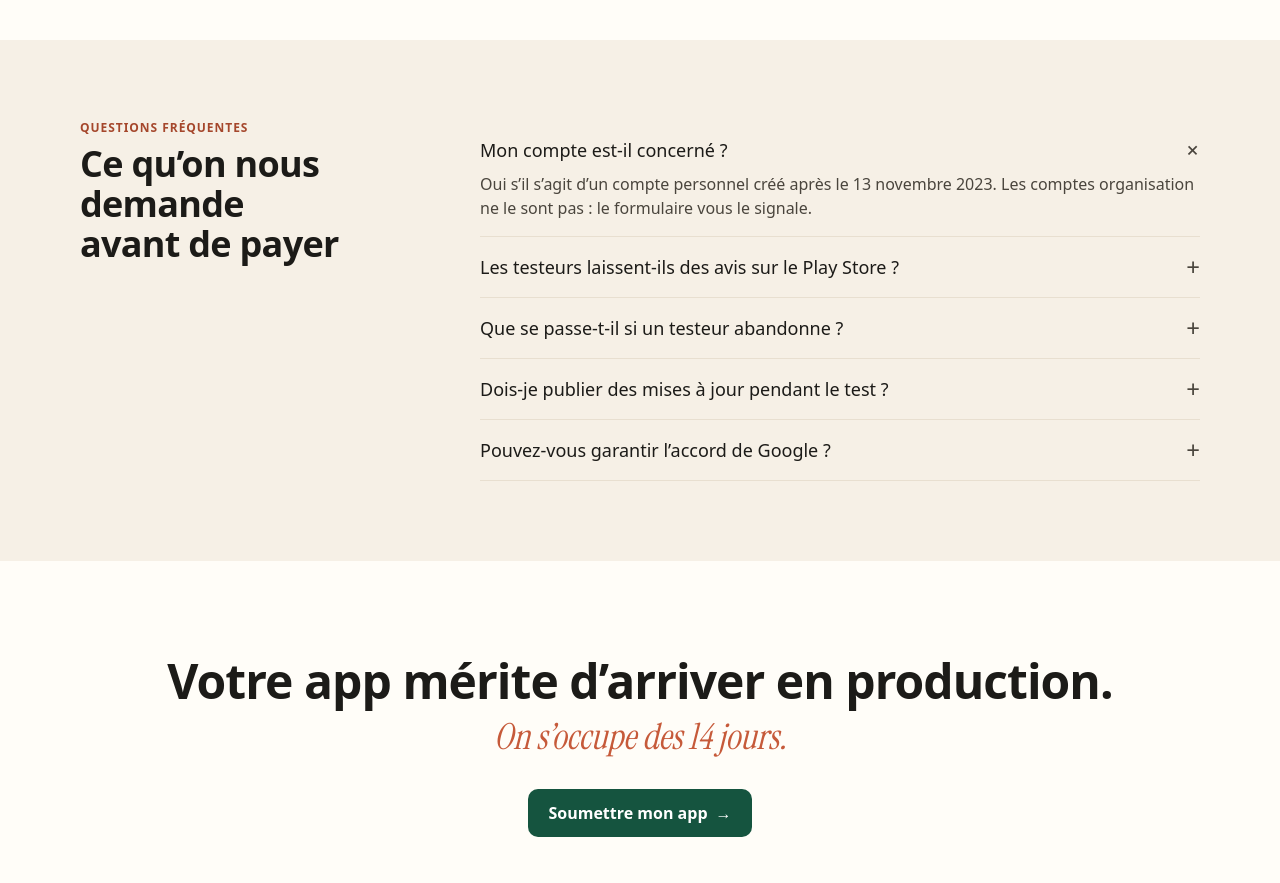
Test case: Accueil (maquette D01) › la FAQ s’ouvre sur la première question et déplie les autres
(page scrolled)
What coordinates should you click on to do the following:
click the heading "Pouvez-vous garantir l’accord de Google ?"
I would click on:
 (655, 450)
Its box is 480,436 -> 1200,464.
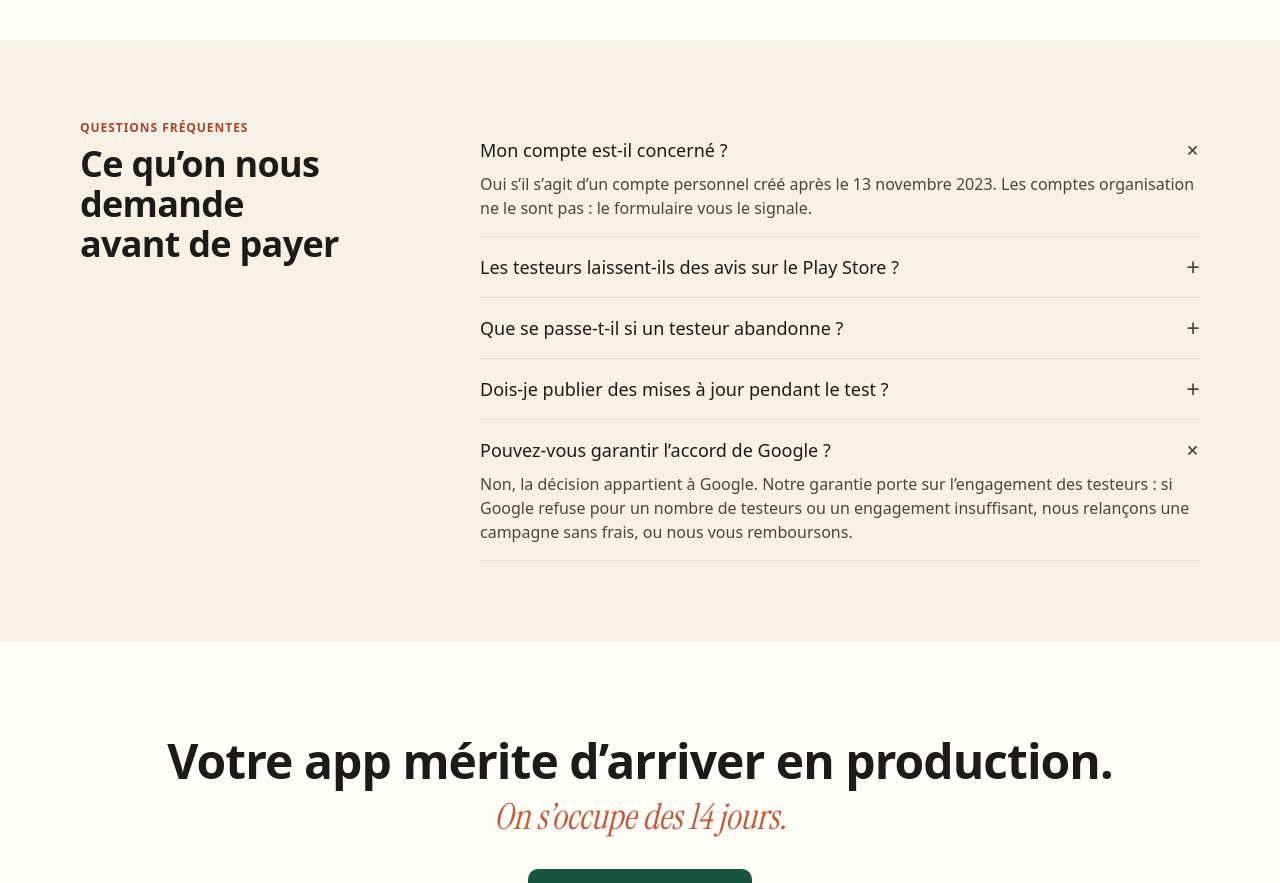
Check: the text "la décision appartient à Google" is shown, box 480,473 -> 1189,543
